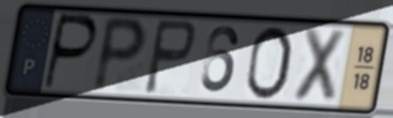6: (199, 24, 242, 97)
O: (242, 24, 294, 102)
P: (89, 13, 151, 96), (40, 11, 100, 92), (141, 17, 198, 98)
X: (289, 25, 350, 107)
